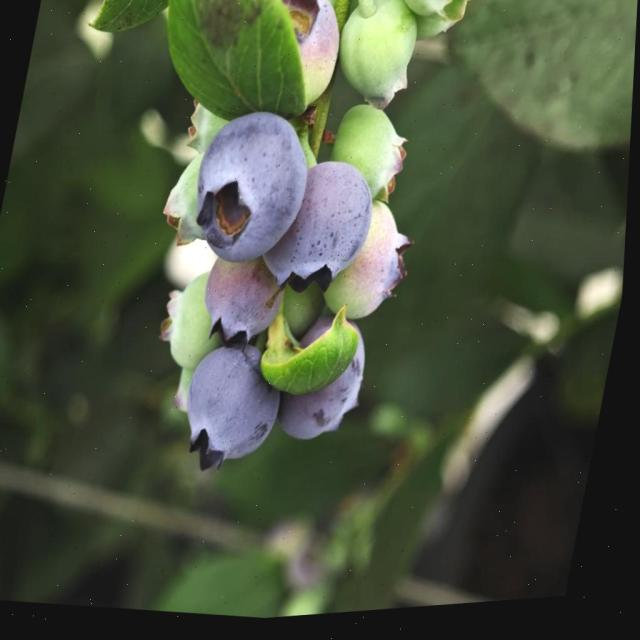RipeBlueBerry: (187, 107, 317, 271), (274, 160, 385, 306), (177, 342, 297, 474)
